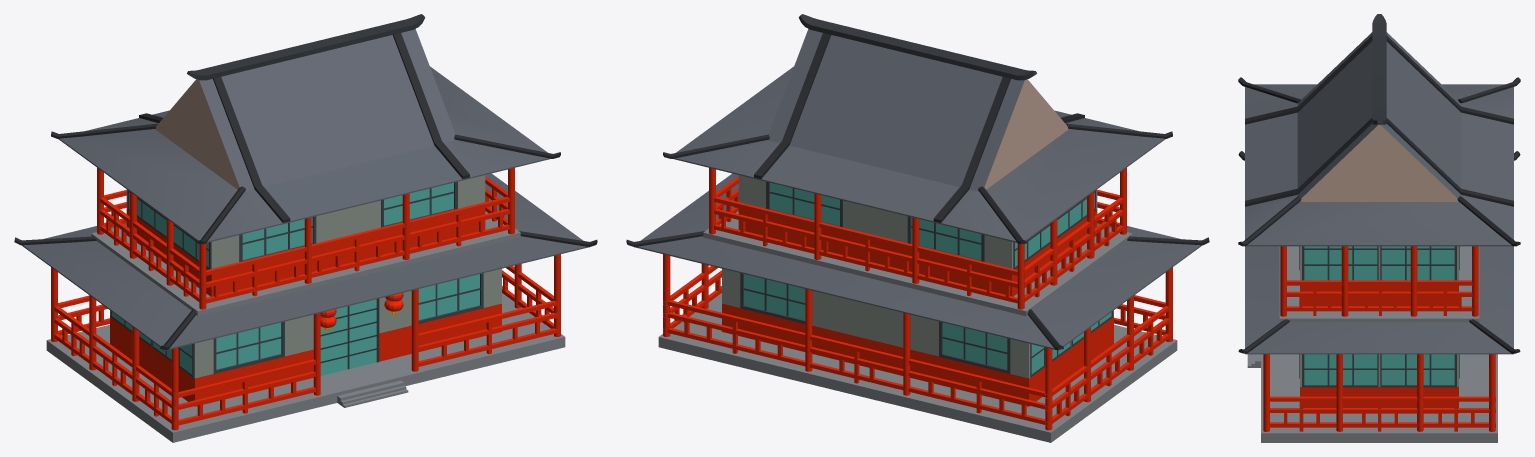
The model's file is Building_1.fbx.
3 renders of one model, left to right at view 1: azimuth 30°, elevation 25°; view 2: azimuth 150°, elevation 25°; view 3: azimuth 270°, elevation 25°, orthographic. The views are drawn at different scales.
Parts seen in each view (by area): view 1: Building_1; view 2: Building_1; view 3: Building_1.
Part boxes in pixels (x1,y1,x2,y2): Building_1: (14, 14, 597, 442); Building_1: (626, 14, 1209, 442); Building_1: (1238, 14, 1520, 442).
Bounding box in the file's own units: 726 × 485 × 434.
